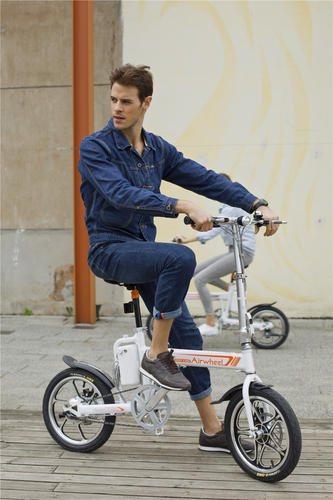bikerider: (33, 53, 306, 490)
